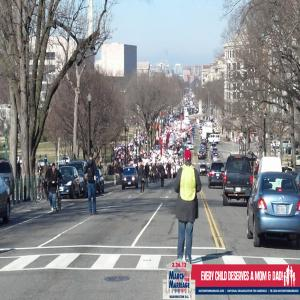Vehicle-registration-plate: (278, 204, 287, 216), (236, 188, 243, 193), (60, 188, 65, 192), (129, 183, 132, 185)
